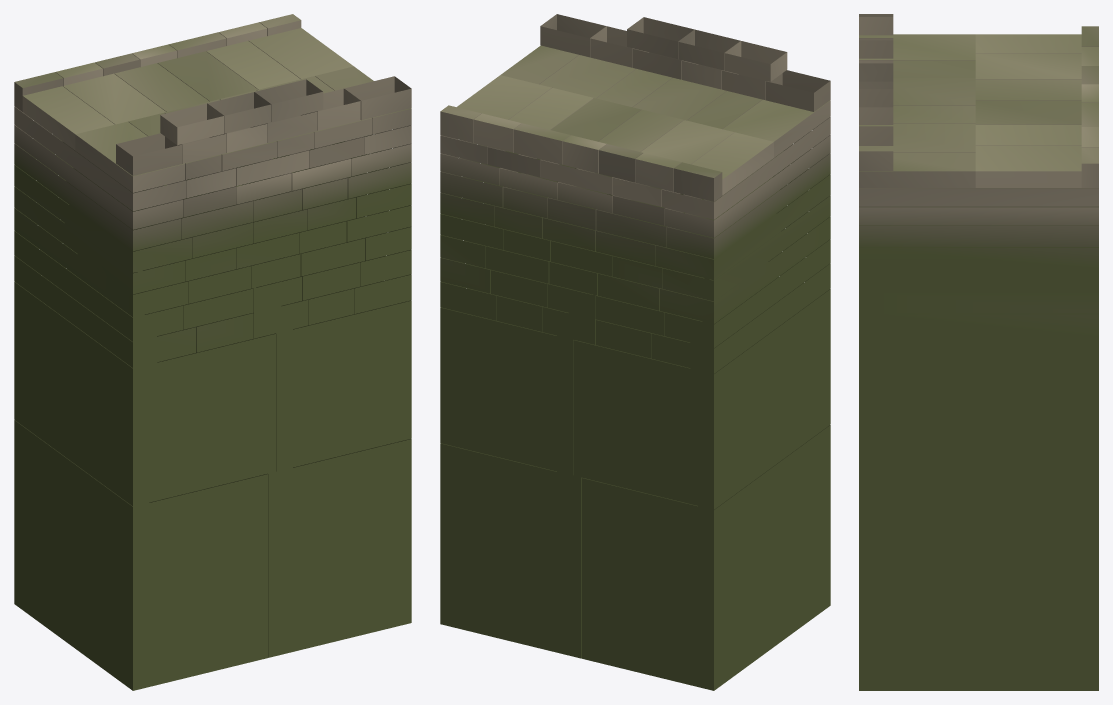
File: harbour_mole_mid.glb
The picture shows the model from 3 angles, left to right: view 1: azimuth 30°, elevation 25°; view 2: azimuth 150°, elevation 25°; view 3: azimuth 270°, elevation 25°; orthographic projection. The views are drawn at different scales.
Visible parts, largest first — view 1: harbour_mole_mid; view 2: harbour_mole_mid; view 3: harbour_mole_mid.
Part boxes in pixels (box(x1,y1,x2,y2)): harbour_mole_mid: box(14, 14, 411, 690); harbour_mole_mid: box(440, 14, 830, 690); harbour_mole_mid: box(859, 14, 1098, 690).
Bounding box in the file's own units: 18.97 × 35.97 × 14.
